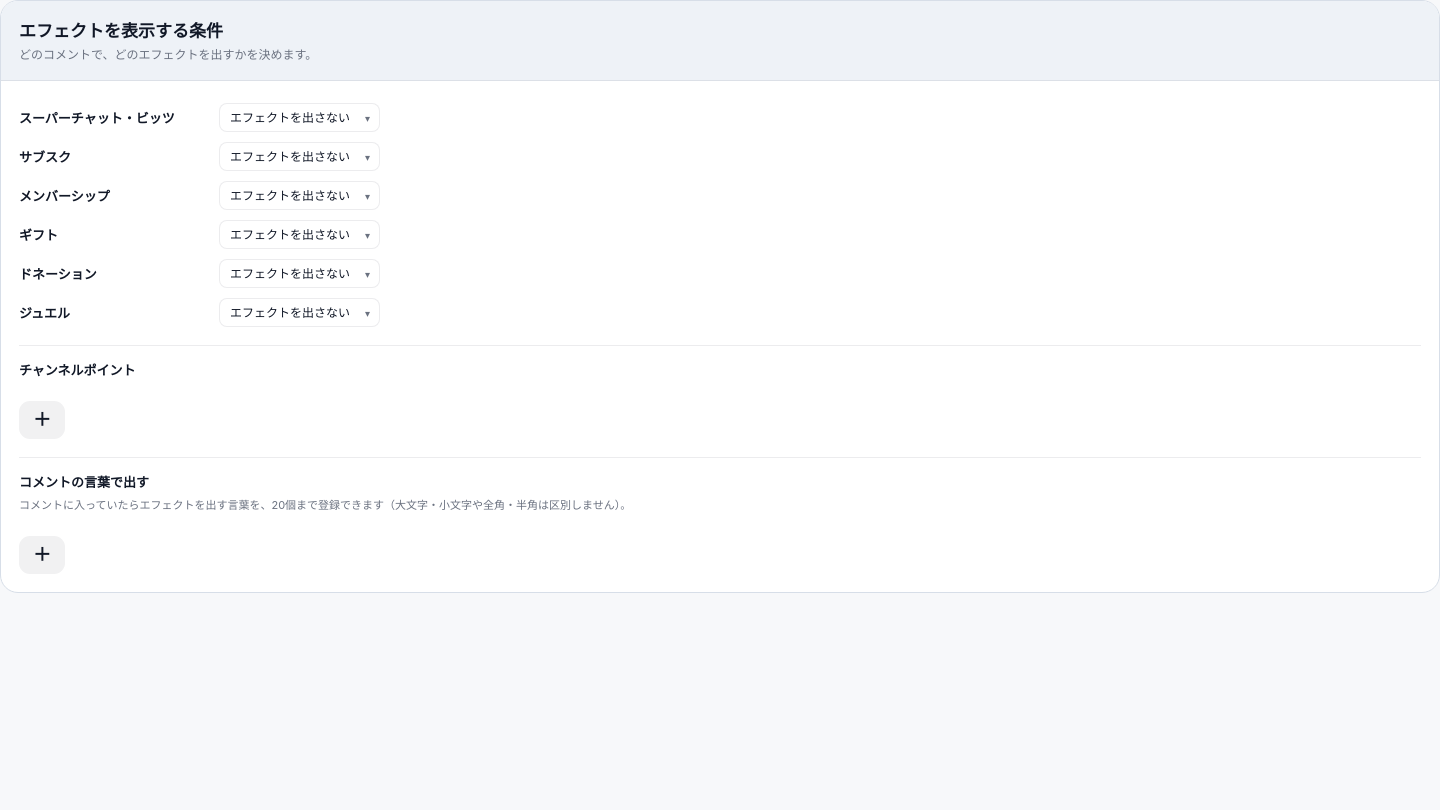
it: 064b: 割り当て先の OBS ソース（画面） › ⚠⚠⚠ 既存の行を空にしても消えない（直前の確定値へ戻る）
Click the button named "カスタム報酬を追加": [42, 420] box [19,401,65,439]
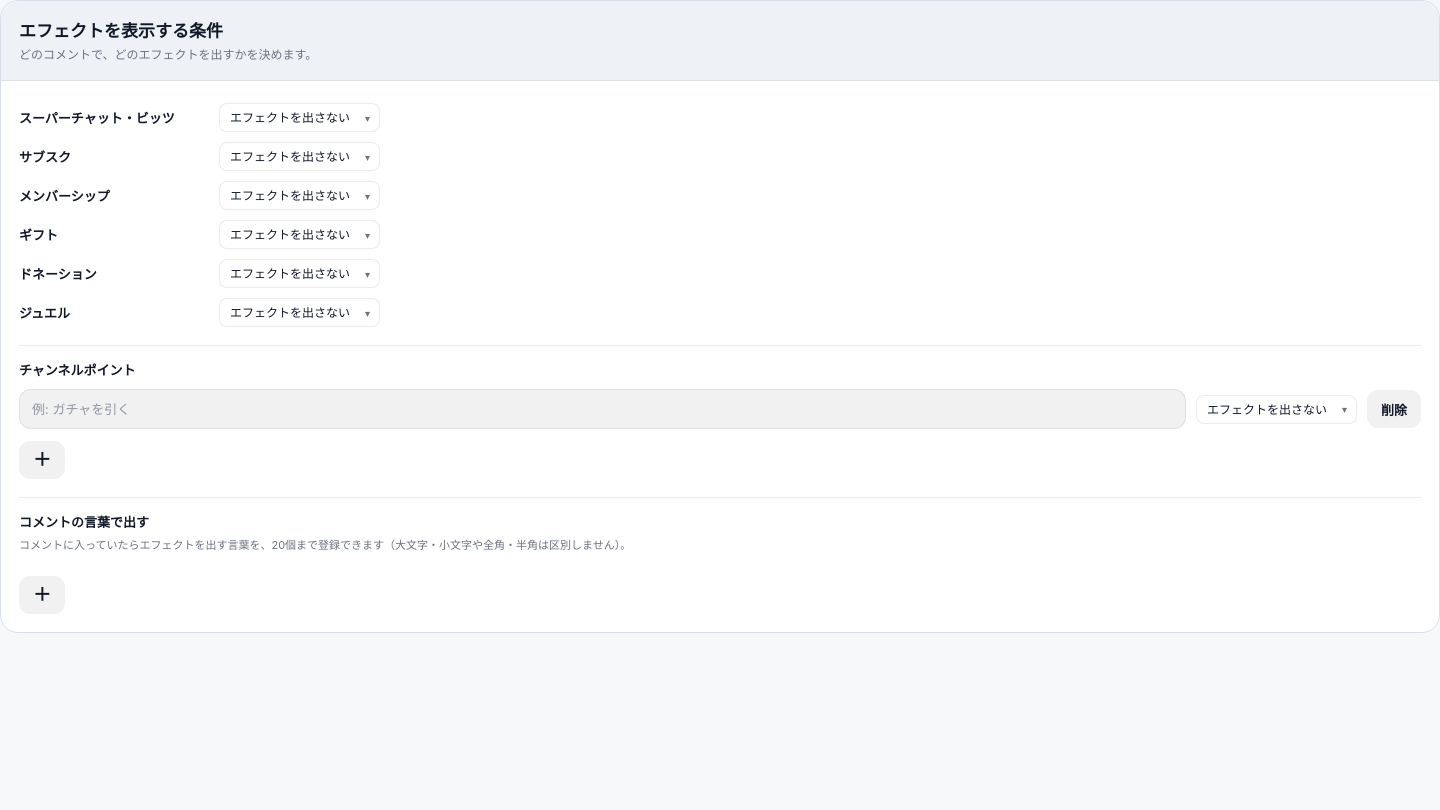
In the field named "カスタム報酬の名前 1": [602, 409] box [19,389,1186,429], type "ガチャを引く"
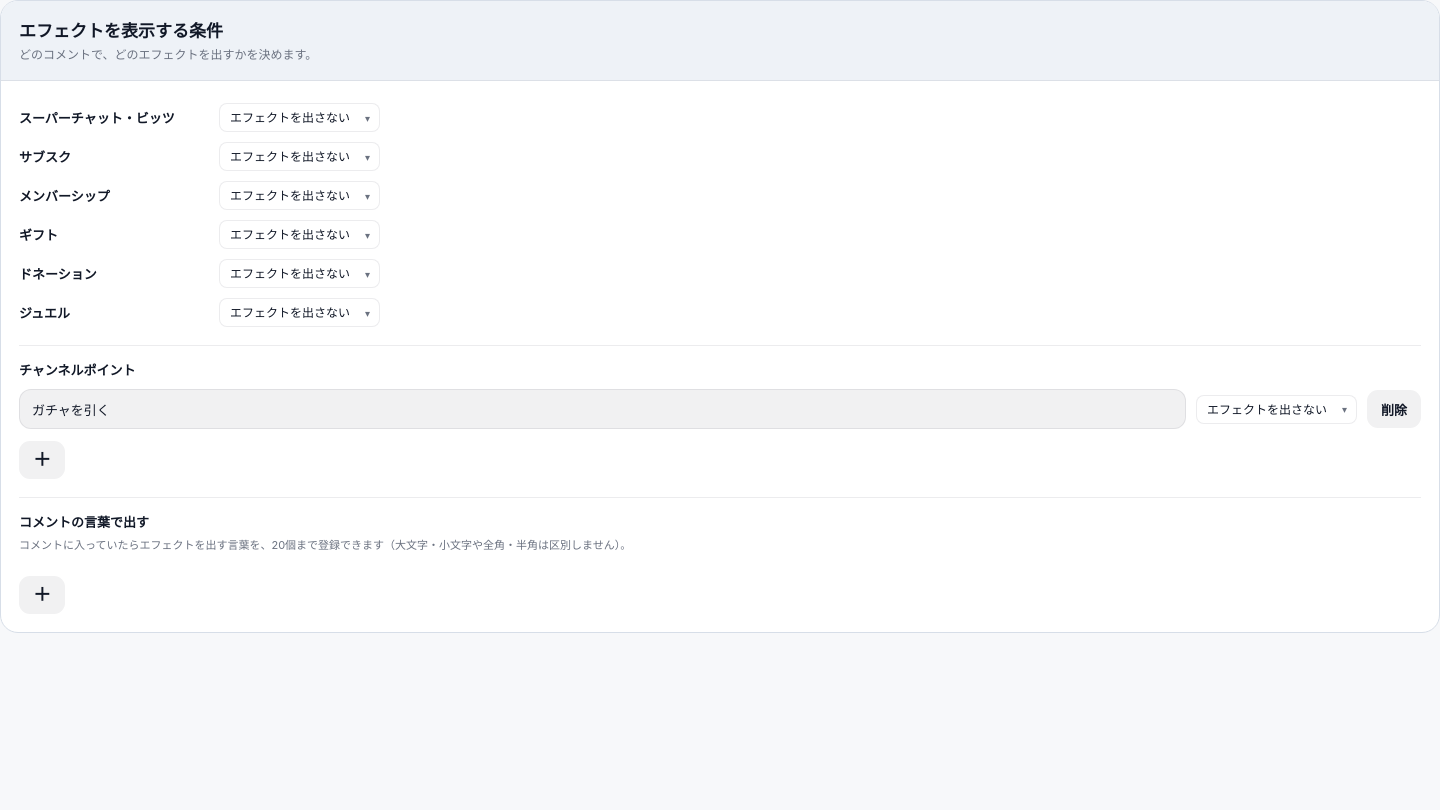
Clear the field named "カスタム報酬の名前 1": [602, 409] box [19,389,1186,429]
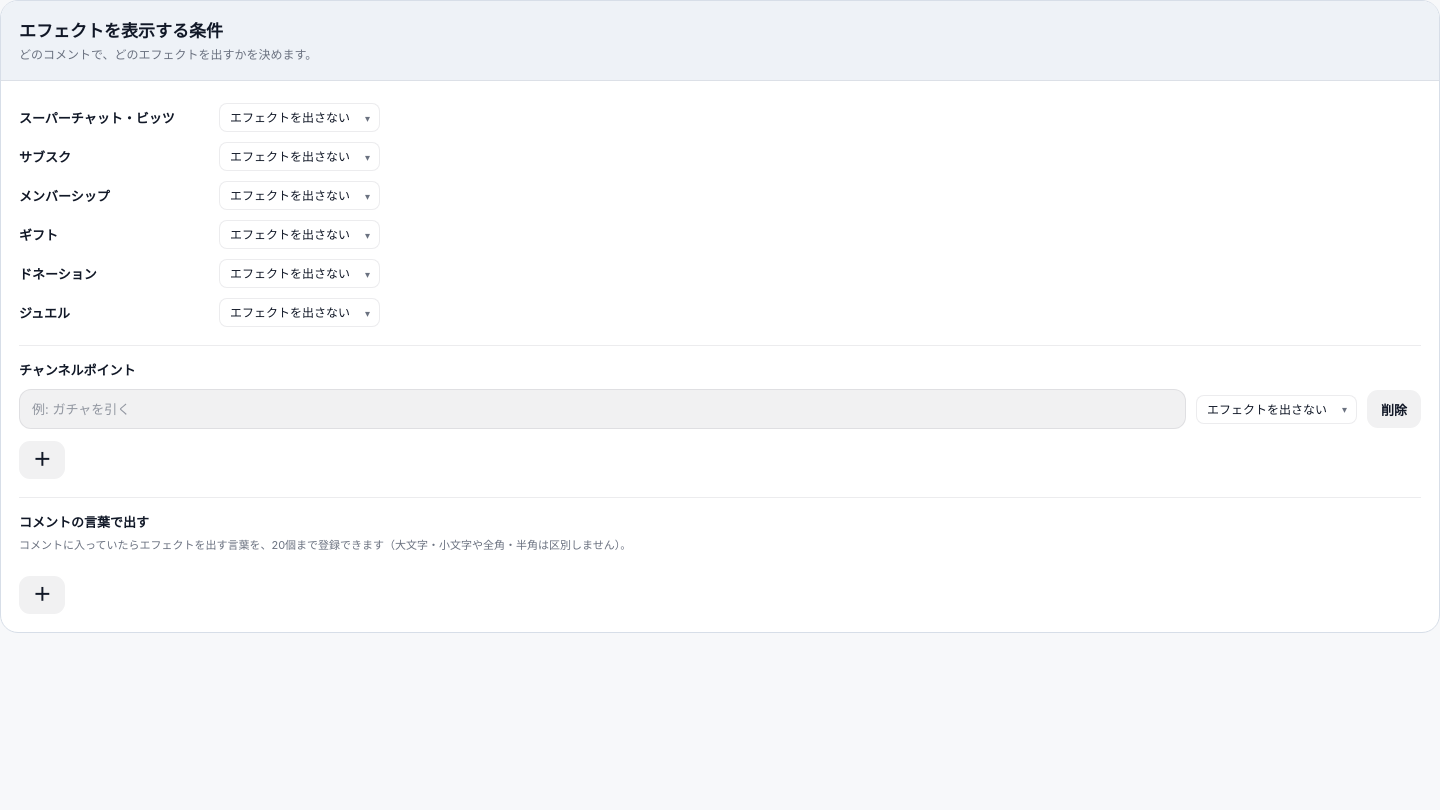
Leave the field named "カスタム報酬の名前 1", box [19,389,1186,429]
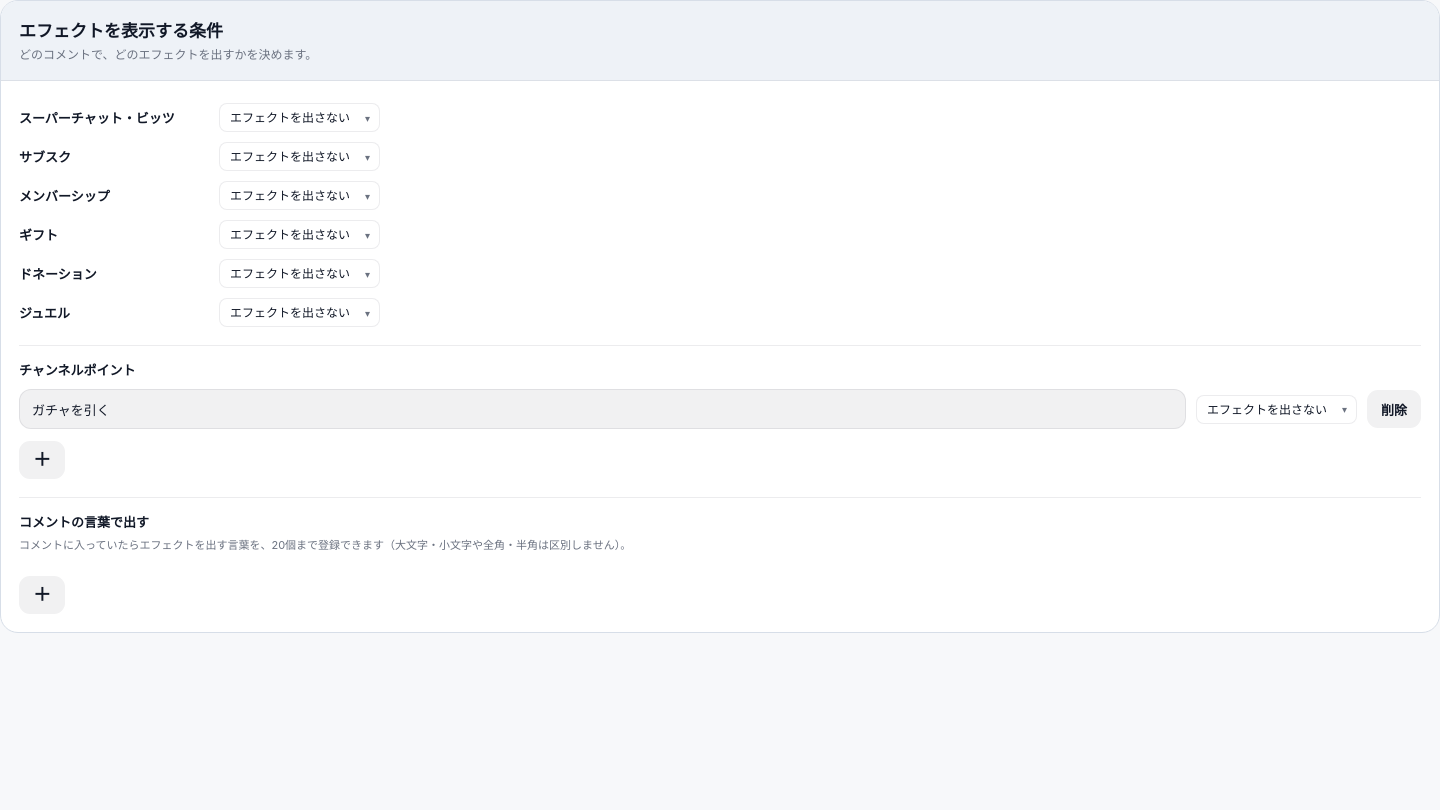
Check: the field named "カスタム報酬の名前 1" holds "ガチャを引く", box [19,389,1186,429]
